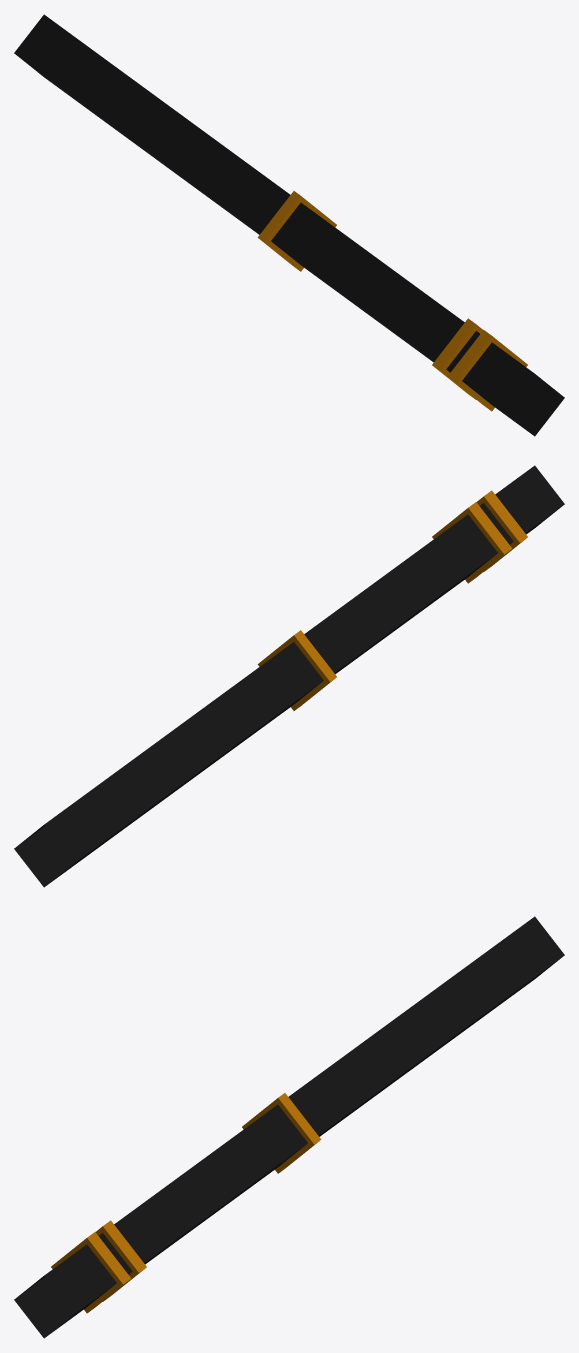
Rendered from Pipe Straight Short.fbx.
The picture shows the model from 3 angles, top to bottom: view 1: azimuth 30°, elevation 25°; view 2: azimuth 150°, elevation 25°; view 3: azimuth 330°, elevation 25°; orthographic projection.
Visible parts, largest first — view 1: Pipe Straight Short; view 2: Pipe Straight Short; view 3: Pipe Straight Short.
Boxes of the visible parts, x1,y1,x2,y2 form: Pipe Straight Short: (14,14,564,436); Pipe Straight Short: (14,465,564,887); Pipe Straight Short: (14,916,564,1338).
Size of the model in its own units: 34.25 by 34.25 by 400.
